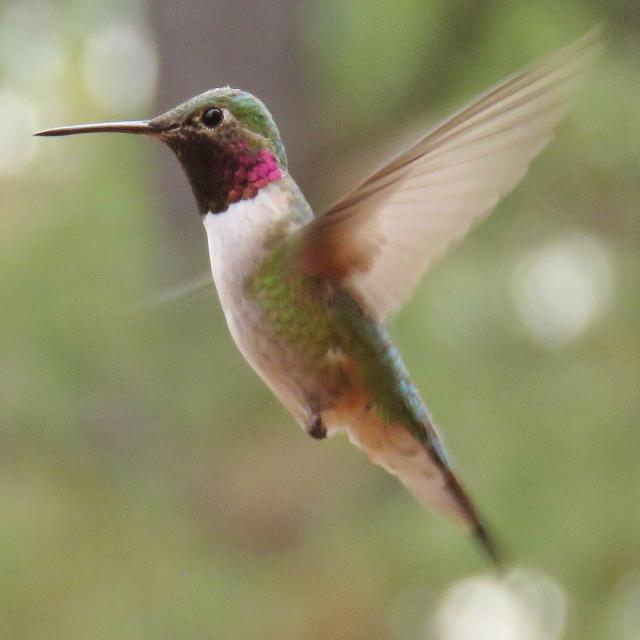hummingbird: (39, 35, 592, 565)
